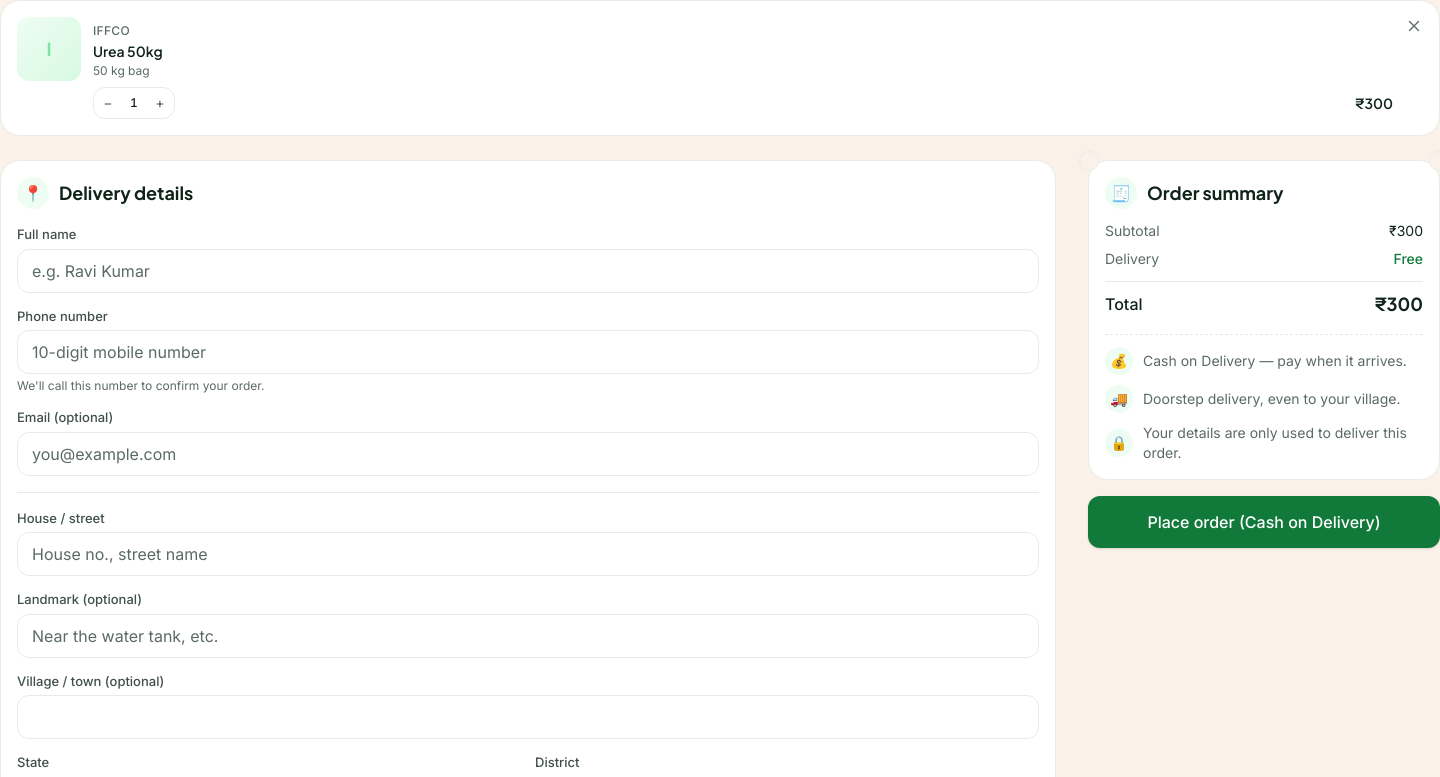
CartItemsList › treats decreasing quantity to 0 as a removal
Click the button named "Decrease quantity". click: point(108, 103)
box: [94, 88, 122, 118]
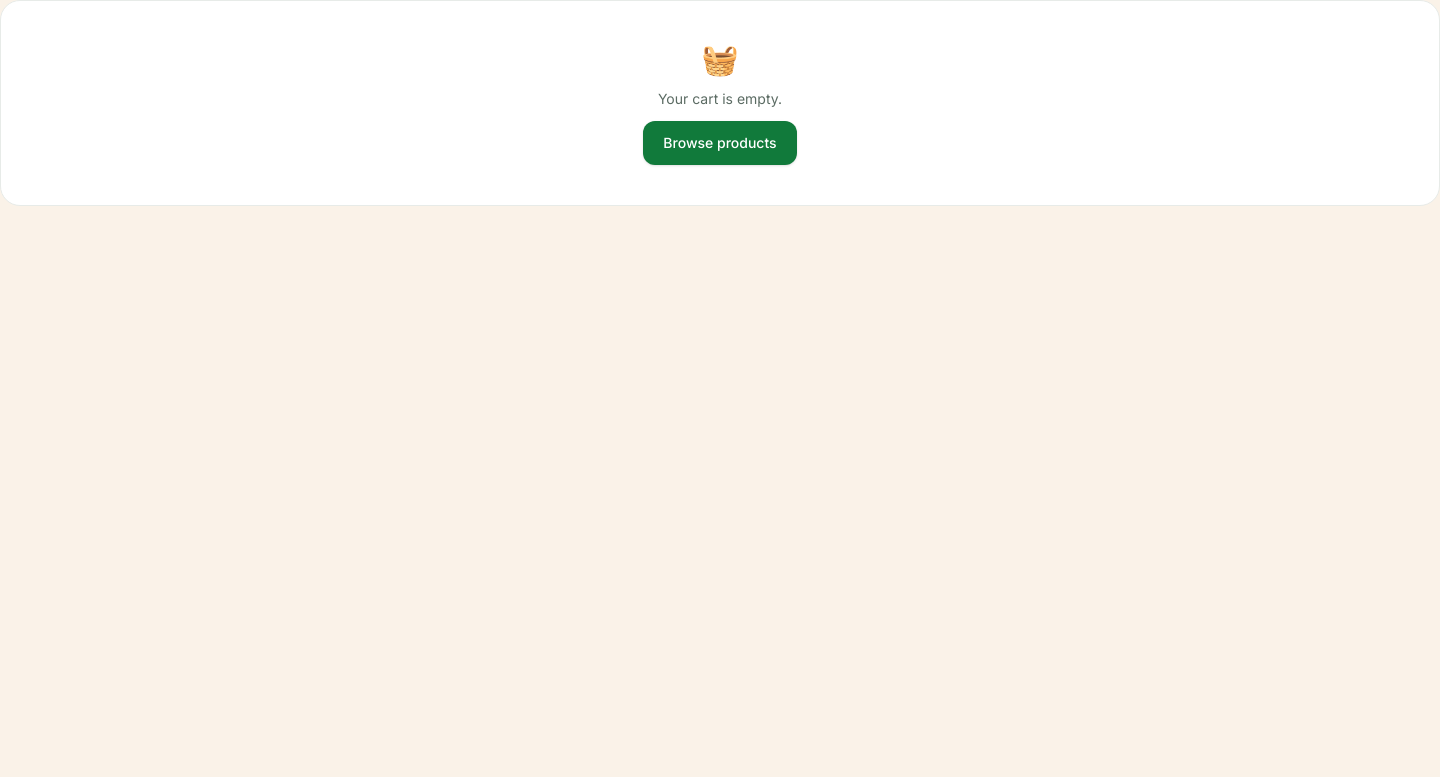
Now the text "Your cart is empty." is shown, box [658, 89, 782, 109]
